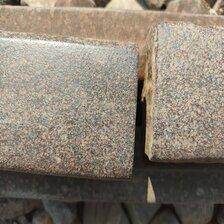railway-gap: (70, 10, 213, 217)
